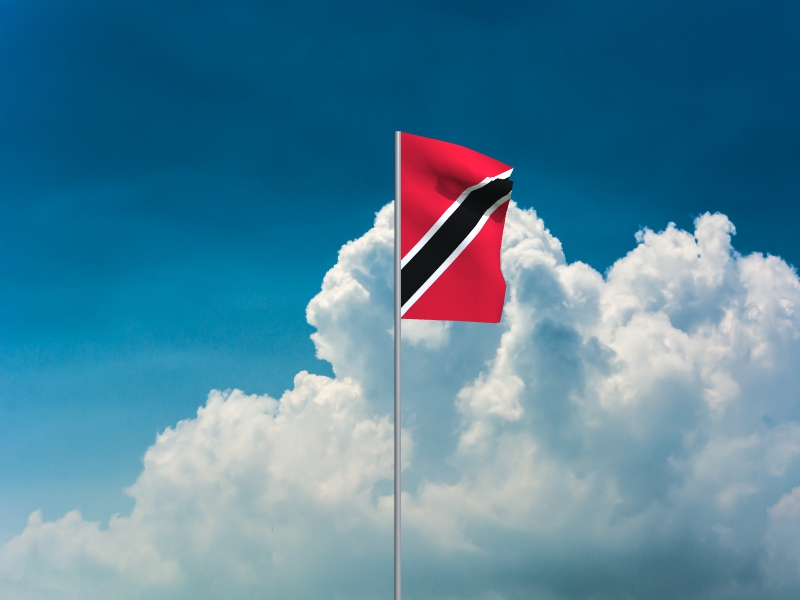tt: (401, 133, 514, 325)
